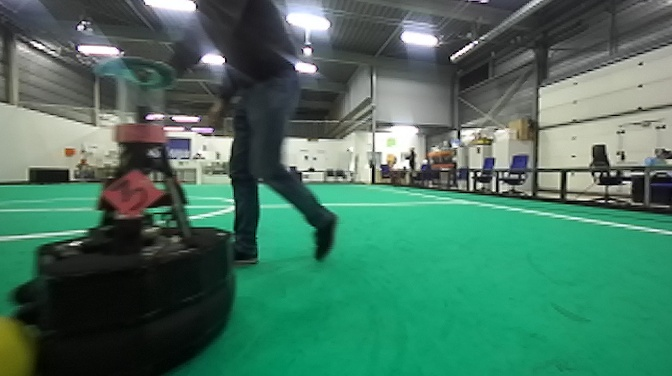ball: (1, 311, 44, 376)
goalpost: (194, 158, 202, 187)
human: (126, 1, 345, 268)
robot: (9, 53, 242, 376)
